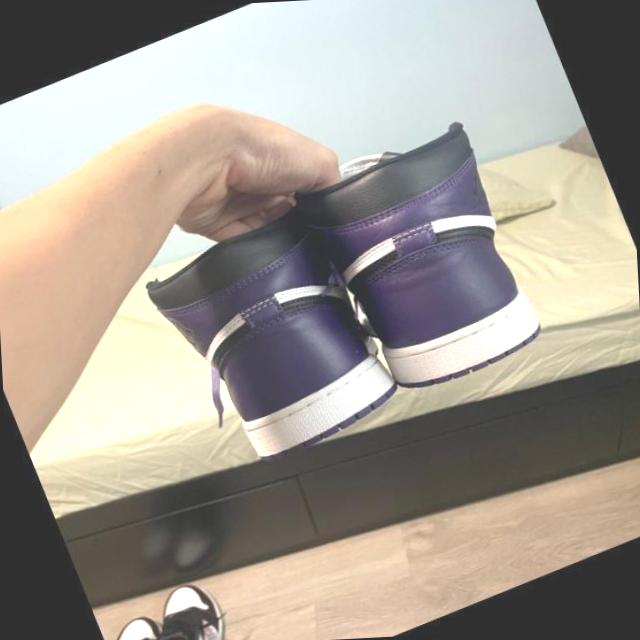nike_original_jordan: (270, 112, 556, 423), (128, 186, 420, 488)
